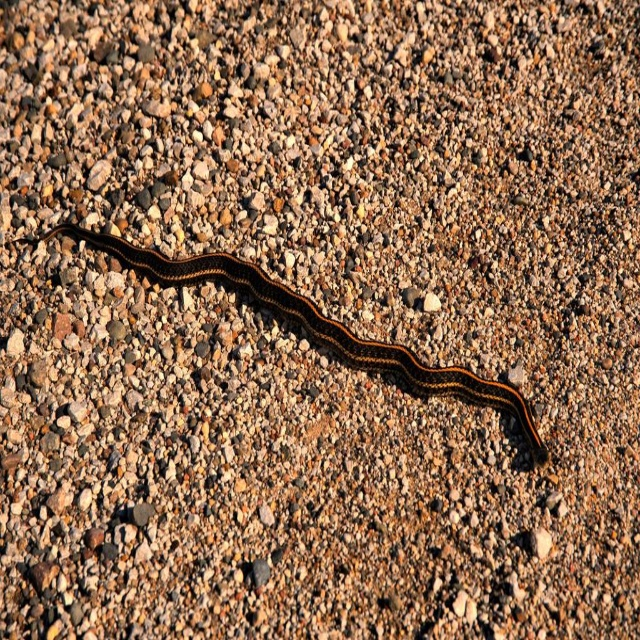Snake: (4, 224, 551, 461)
